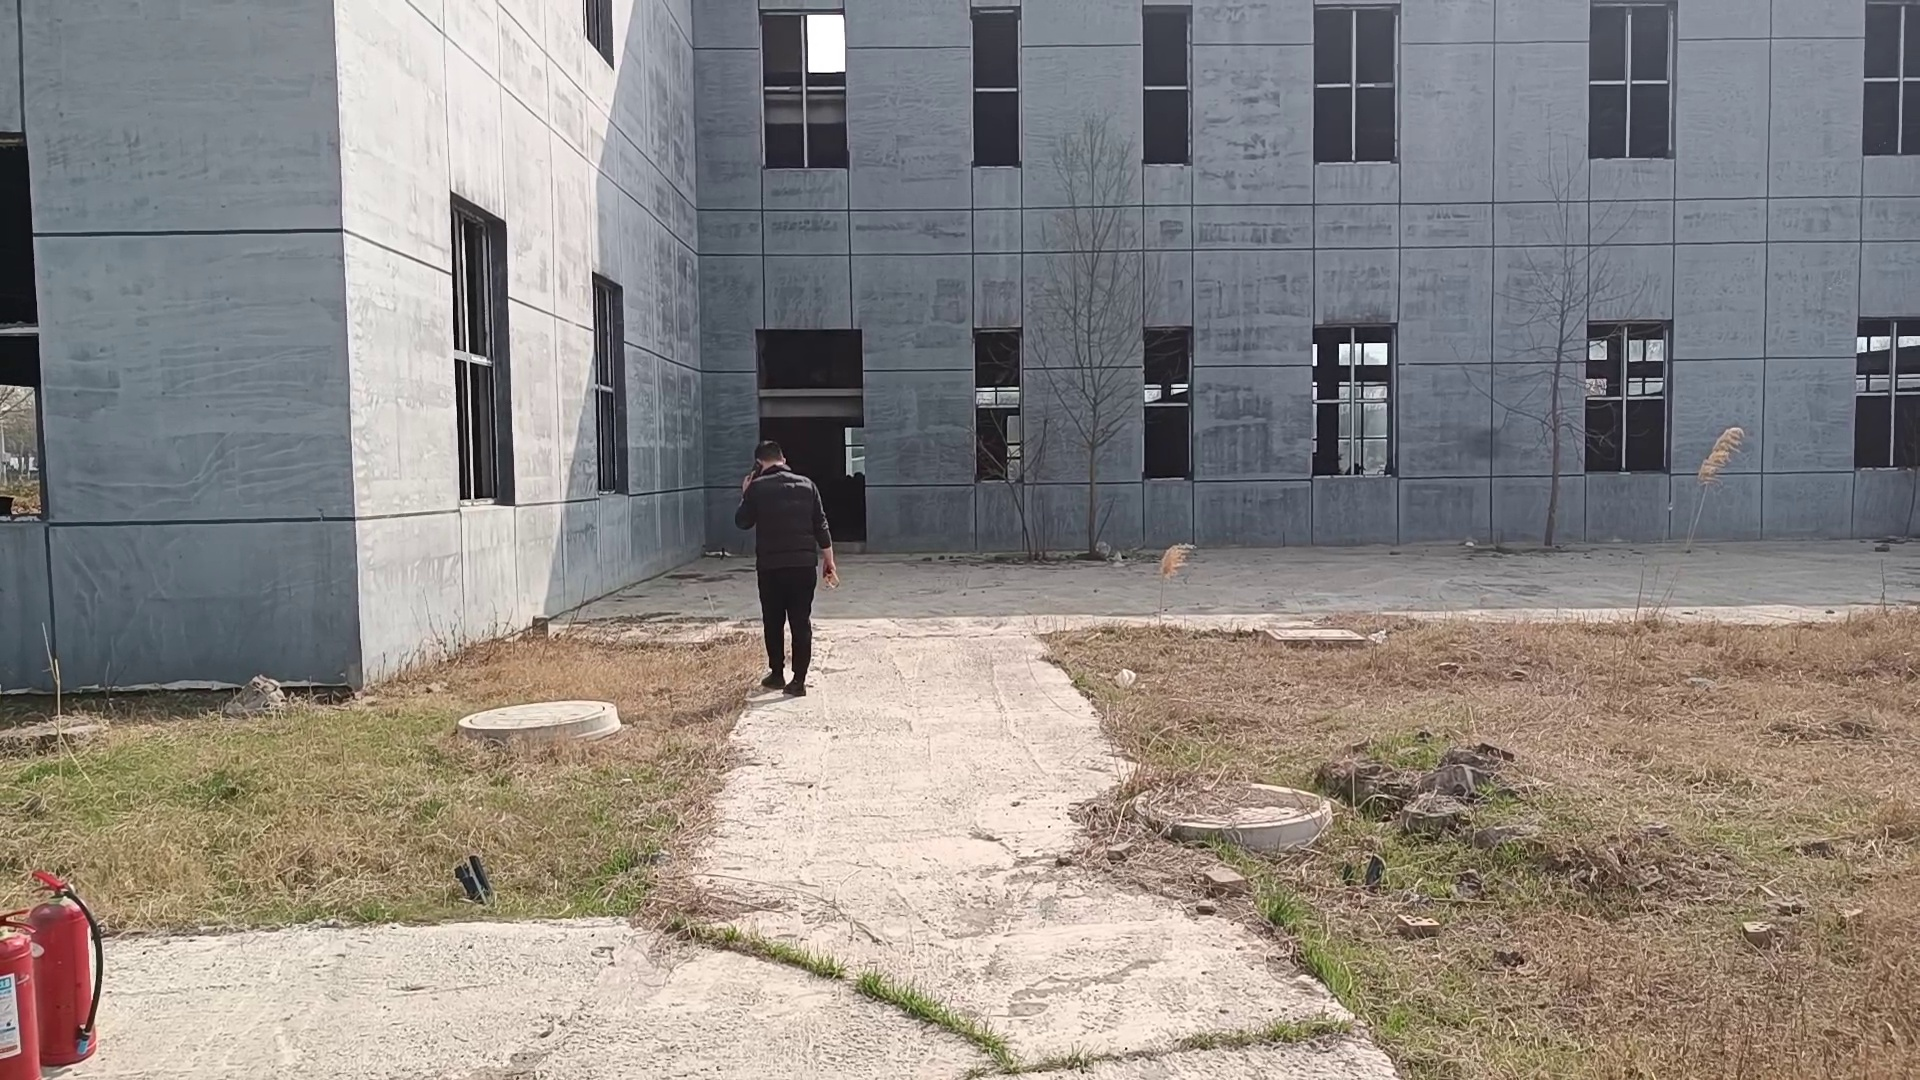phone: (737, 440, 789, 487)
